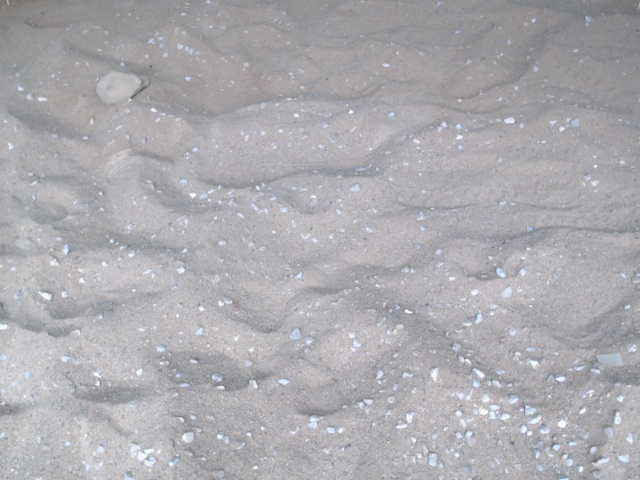rock: (90, 62, 156, 108)
